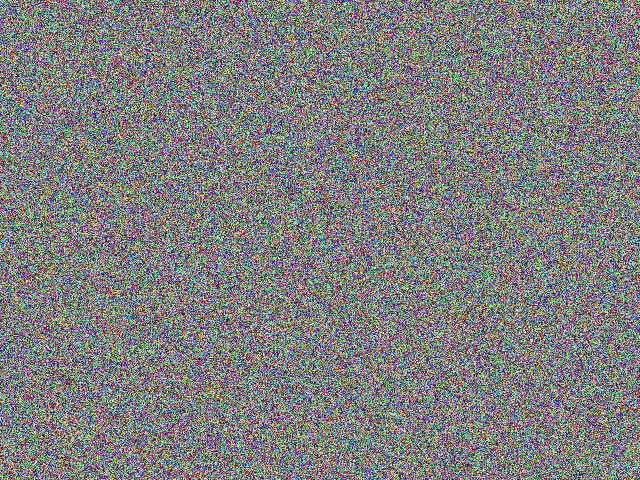person: (256, 144, 384, 336)
